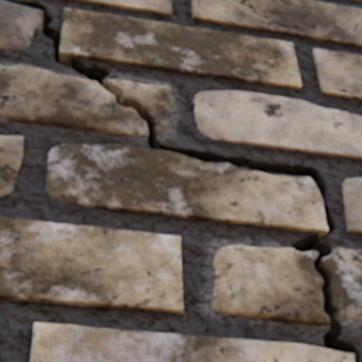brick: (47, 144, 327, 234), (60, 9, 301, 90), (0, 217, 183, 314), (31, 322, 353, 361), (193, 92, 361, 160), (191, 0, 361, 48), (312, 50, 361, 101), (0, 1, 43, 50), (61, 0, 172, 18), (0, 136, 24, 196), (341, 178, 361, 234), (345, 0, 361, 3)
broken_brick: (0, 66, 148, 137), (211, 245, 329, 324), (108, 81, 171, 135), (320, 249, 361, 319)
crack: (0, 0, 360, 361), (240, 0, 286, 27), (256, 10, 282, 14), (288, 27, 303, 32)
